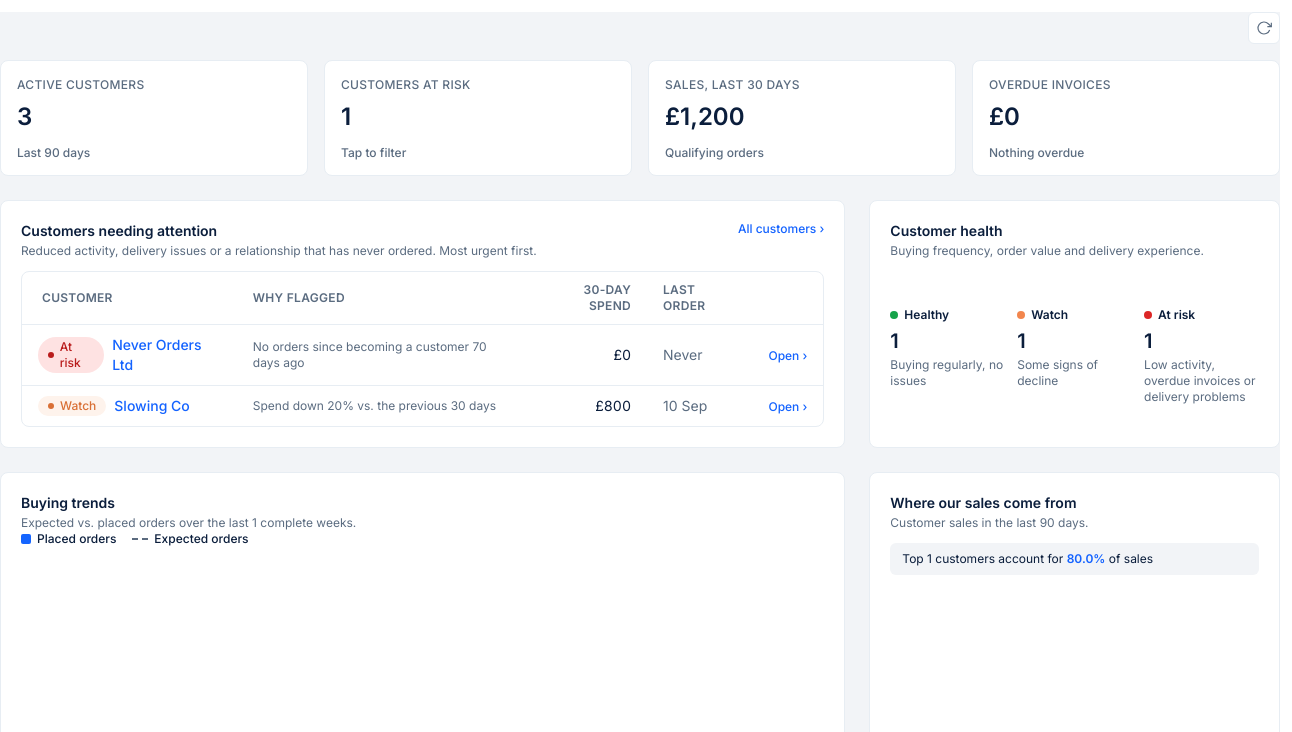
Test: CustomerHealthDashboard › narrows the flagged list to at-risk customers when the at-risk tile is clicked
What coordinates should you click on to do the following:
click the button "Customers at risk 1 Tap to filter"
I would click on:
 (406, 84)
Its box is [324, 60, 632, 176].
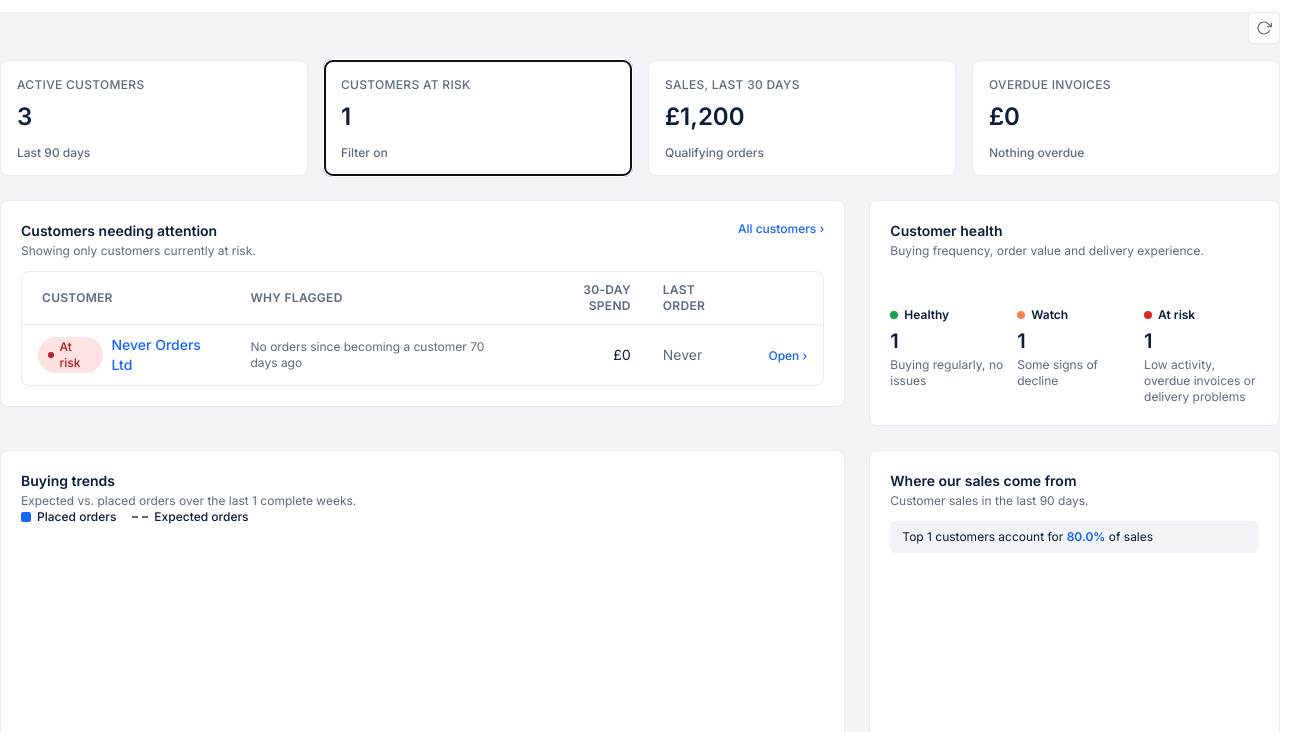
Check: the link "Slowing Co" is gone
